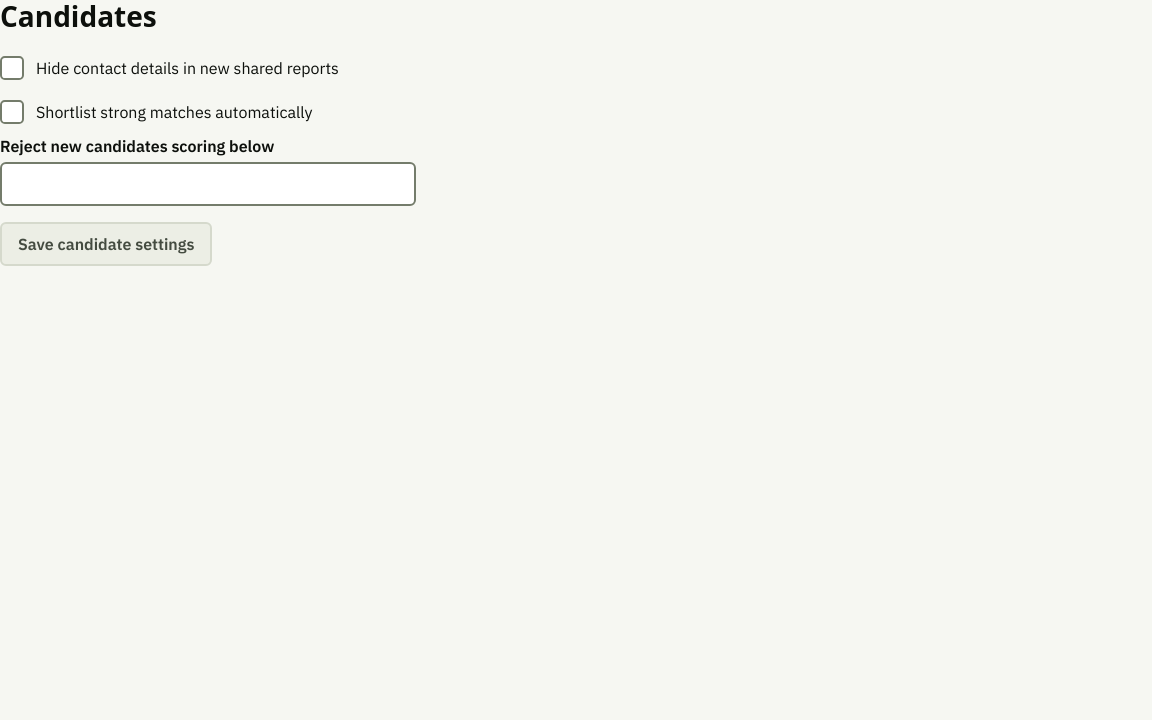
it: candidate preferences › saves the change and confirms in a popup
Click the checkbox labelled "Hide contact details in new shared reports" at (12, 68), box [0, 56, 24, 80]
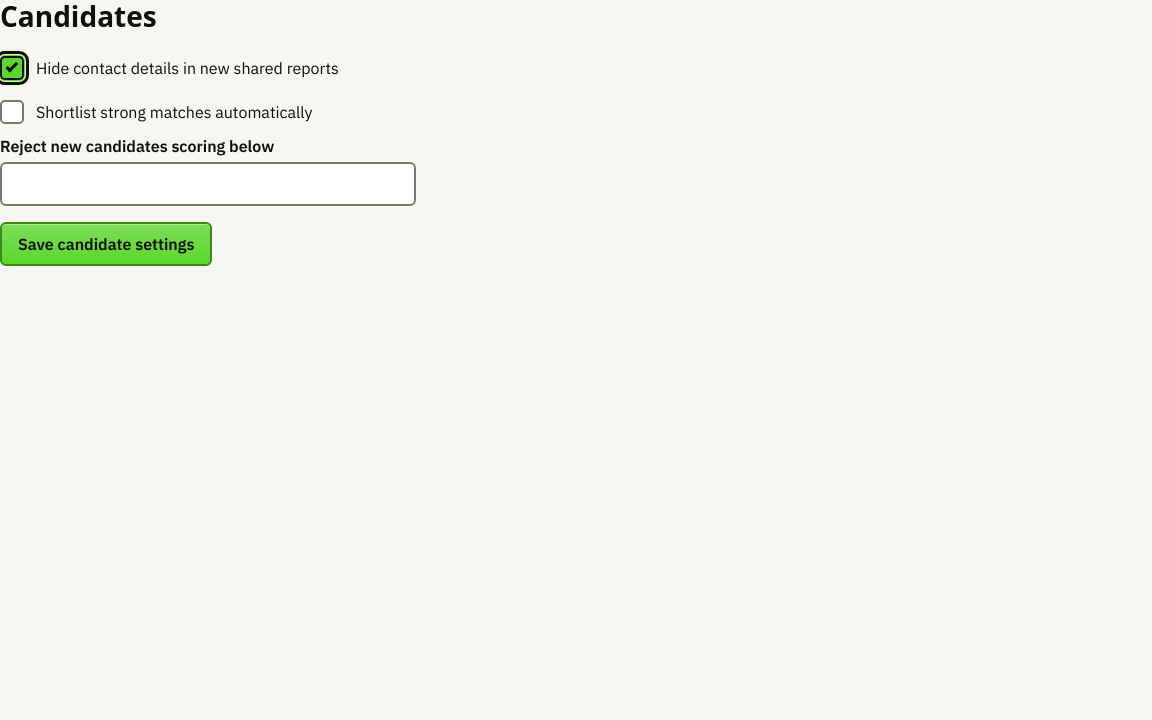
Click the button "Save candidate settings" at (106, 244), box [0, 222, 212, 266]
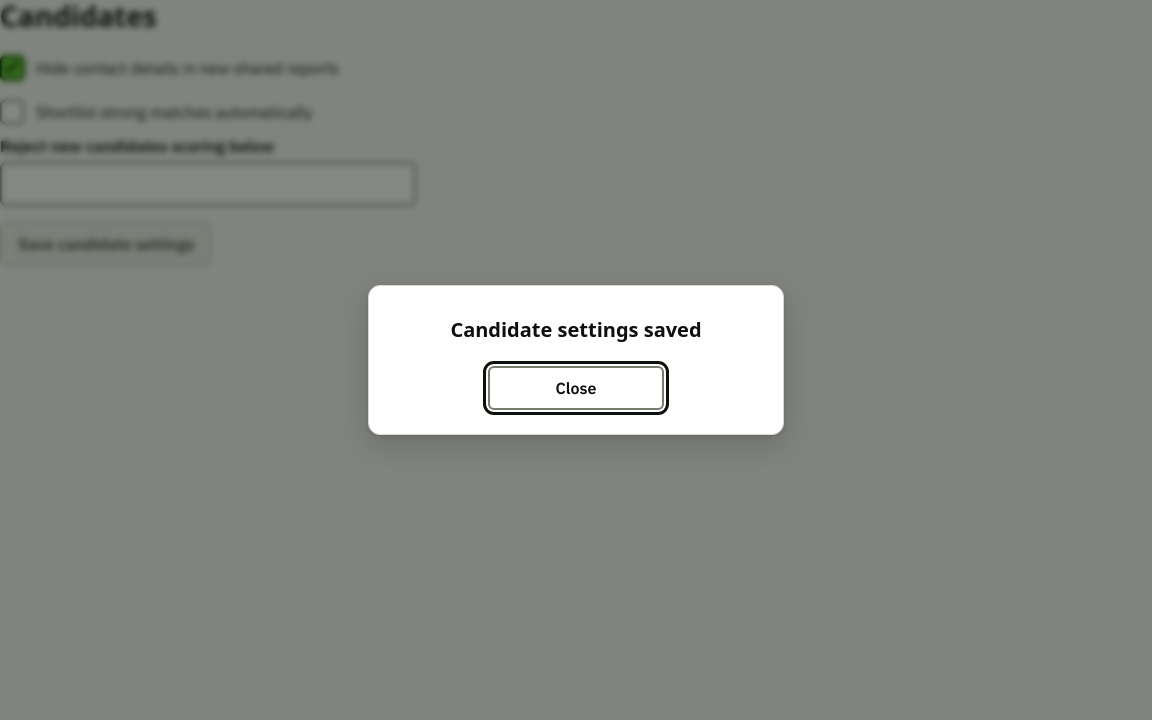
Expected: the heading "Candidate settings saved" is shown, [450, 316, 702, 343]
